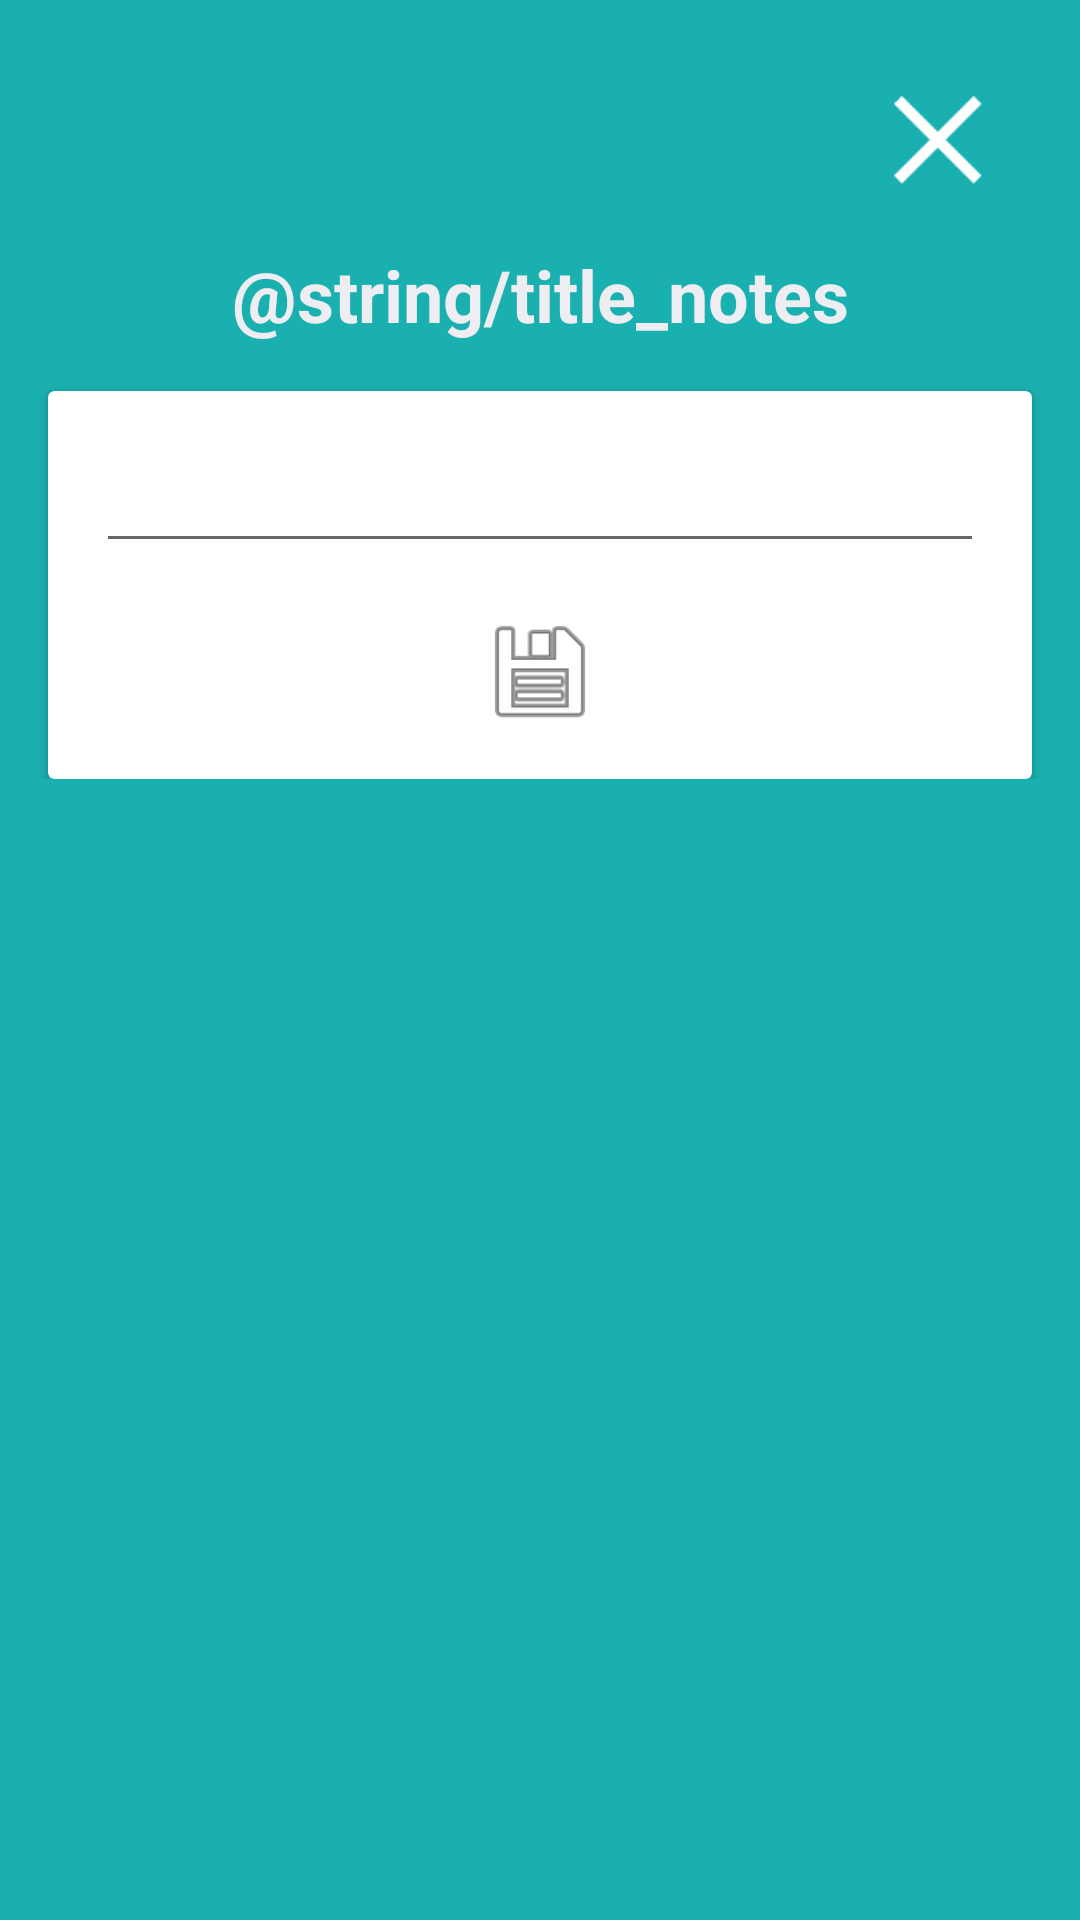

Icon click points for this 1080 x 1920 phone screenshot, format (x=x, y=y):
save: (x=540, y=672)
